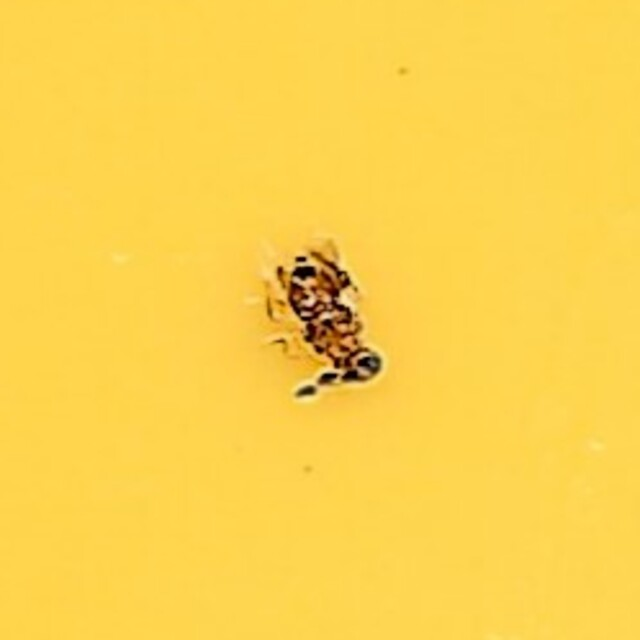Hymenoptera: (257, 238, 383, 402)
